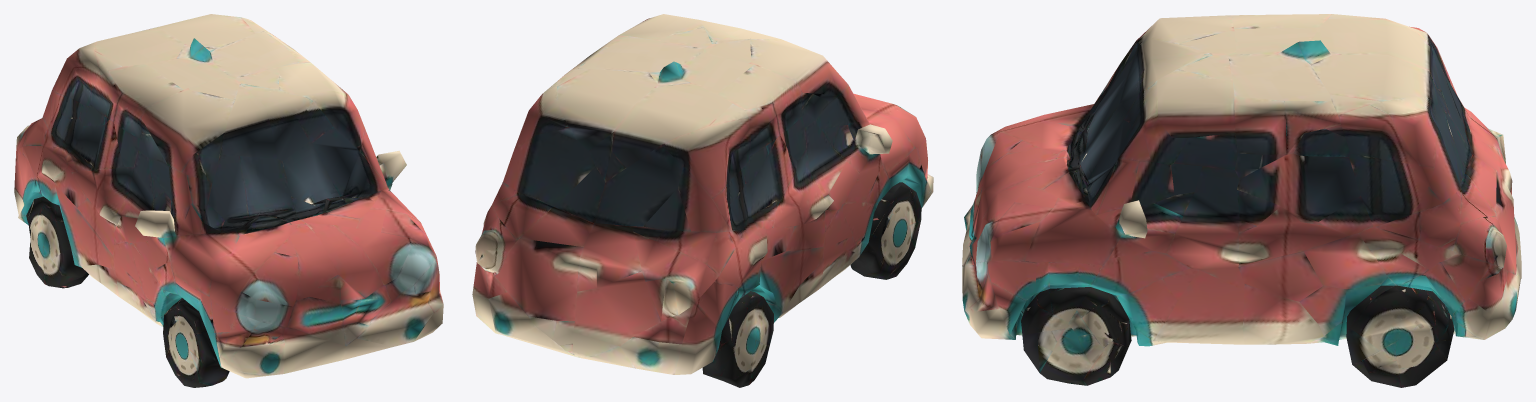
The model's file is traffic-compact-car.glb.
3 views of the same model, side by side, from view 1: azimuth 30°, elevation 25°; view 2: azimuth 150°, elevation 25°; view 3: azimuth 270°, elevation 25° (orthographic). The views are drawn at different scales.
Parts seen in each view (by area): view 1: mesh_node; view 2: mesh_node; view 3: mesh_node.
Part boxes in pixels (bbox=[...]): mesh_node: bbox=[14, 14, 443, 387]; mesh_node: bbox=[472, 14, 933, 387]; mesh_node: bbox=[962, 14, 1521, 387].
Bounding box in the file's own units: 2.29 × 2.02 × 3.6.
Materials: 1 (1 with a texture image).
